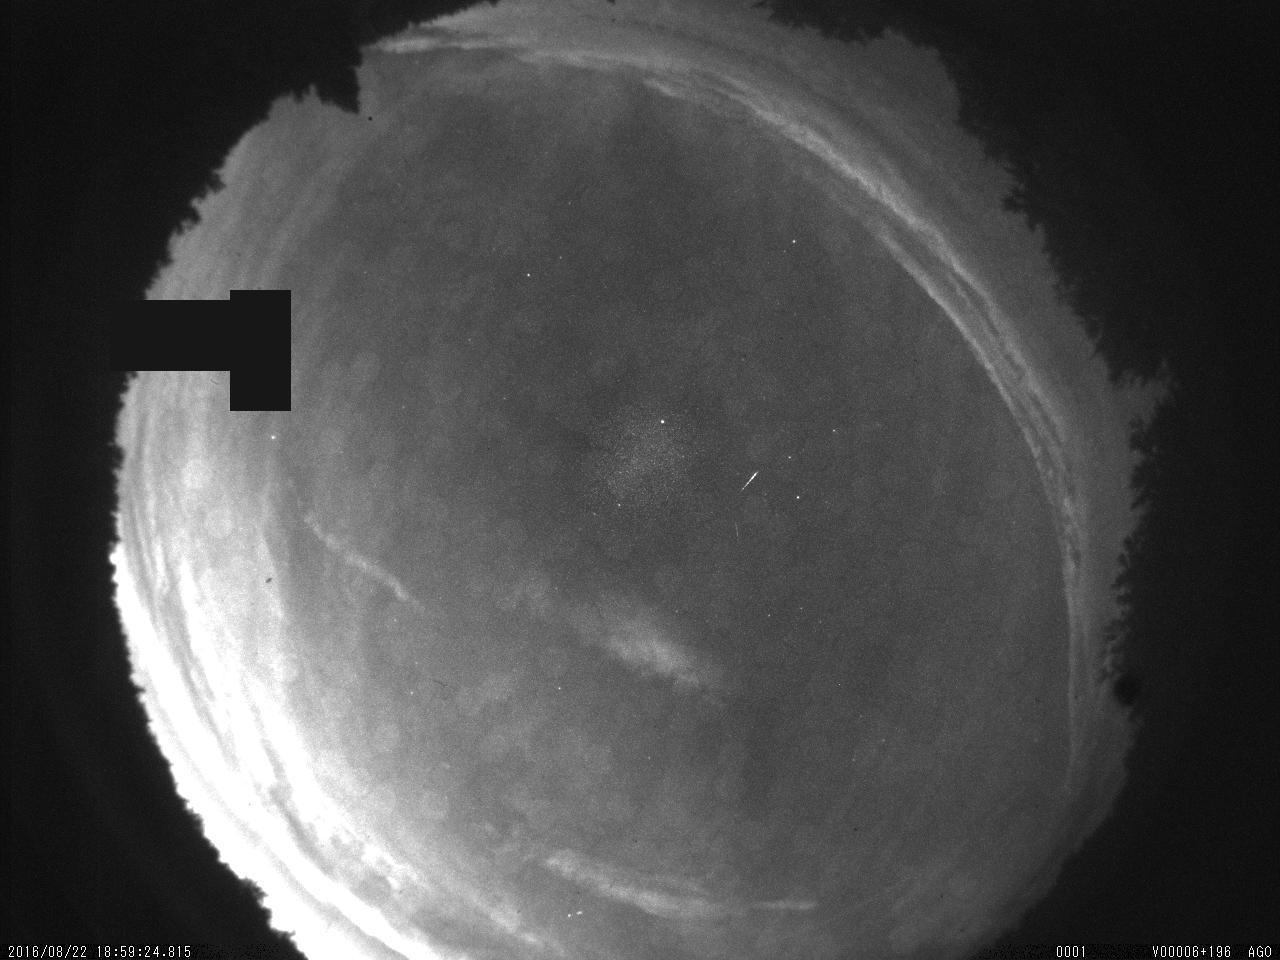meteor: (734, 469, 762, 500), (730, 519, 746, 545)
